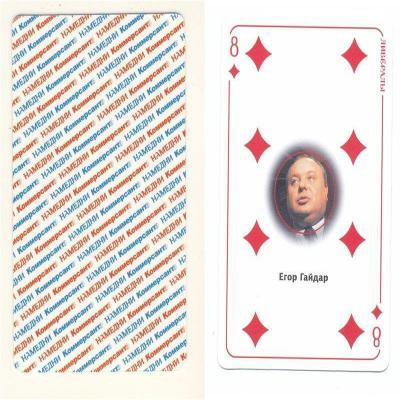graphics: (12, 12, 188, 375), (217, 18, 394, 373)
